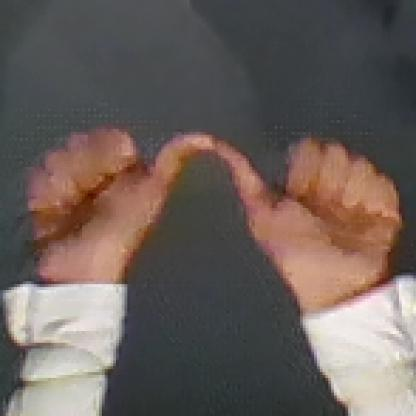A: (20, 108, 398, 298)
